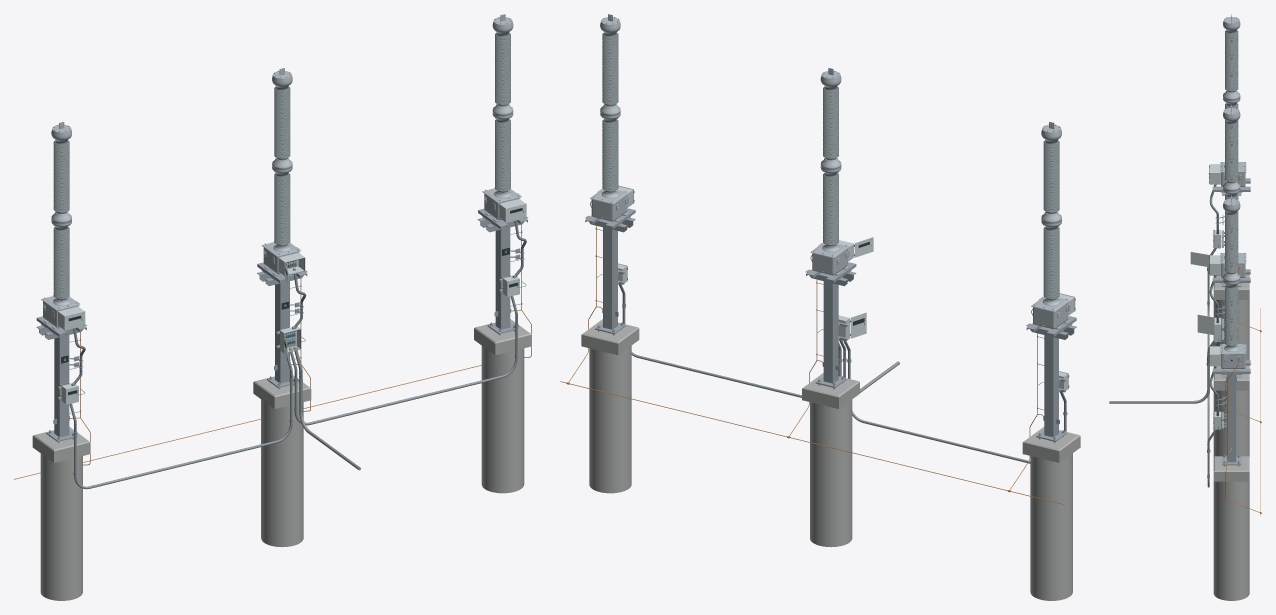
The model's file is cvt-square-stand-service.glb.
3 renders of one model, left to right at view 1: azimuth 30°, elevation 25°; view 2: azimuth 150°, elevation 25°; view 3: azimuth 270°, elevation 25°, orthographic. The views are drawn at different scales.
Parts seen in each view (by area): view 1: Object100504, Object100883, Object100143, Object100557, Object100936, Object101073, Object100326, Object100325, Object101074, Object101082, Object100703, Object100196 (+5 smaller); view 2: Object100504, Object100883, Object100143, Object100196, Object100936, Object100557, Object101082, Object100703, Object100331, Object100695, Object100694, Object101073 (+8 smaller); view 3: Object100504, Object100143, Object100557, Object100883, Object101074, Object100326, Object100694, Object100695, Object100703, Object100331, Object100690, Object101082 (+10 smaller).
Boxes of the visible parts, x1,y1,x2,y2 form: Object100504: [481, 346, 524, 493]; Object100883: [40, 453, 82, 600]; Object100143: [261, 399, 303, 547]; Object100557: [495, 227, 510, 329]; Object100936: [54, 335, 69, 437]; Object101073: [53, 227, 69, 300]; Object100326: [274, 86, 290, 160]; Object100325: [274, 173, 290, 246]; Object101074: [53, 140, 69, 213]; Object101082: [32, 427, 90, 462]; Object100703: [474, 319, 531, 355]; Object100196: [275, 281, 289, 383]; Object100504: [589, 346, 631, 493]; Object100883: [1030, 453, 1072, 600]; Object100143: [810, 399, 852, 547]; Object100196: [823, 281, 838, 383]; Object100936: [1044, 335, 1058, 437]; Object100557: [603, 227, 617, 329]; Object101082: [1022, 427, 1080, 462]; Object100703: [581, 319, 639, 355]; Object100331: [802, 373, 859, 408]; Object100695: [602, 33, 618, 106]; Object100694: [602, 119, 618, 192]; Object101073: [1043, 227, 1059, 300]; Object100504: [1213, 481, 1249, 600]; Object100143: [1213, 390, 1249, 456]; Object100557: [1227, 374, 1236, 462]; Object100883: [1213, 300, 1249, 360]; Object101074: [1225, 30, 1238, 92]; Object100326: [1225, 121, 1238, 183]; Object100694: [1225, 285, 1238, 347]; Object100695: [1225, 212, 1238, 274]; Object100703: [1213, 456, 1249, 481]; Object100331: [1213, 365, 1249, 390]; Object100690: [1221, 344, 1245, 368]; Object101082: [1213, 274, 1249, 299].
Bounding box in the file's own units: 10.45 × 9.3 × 3.24.
